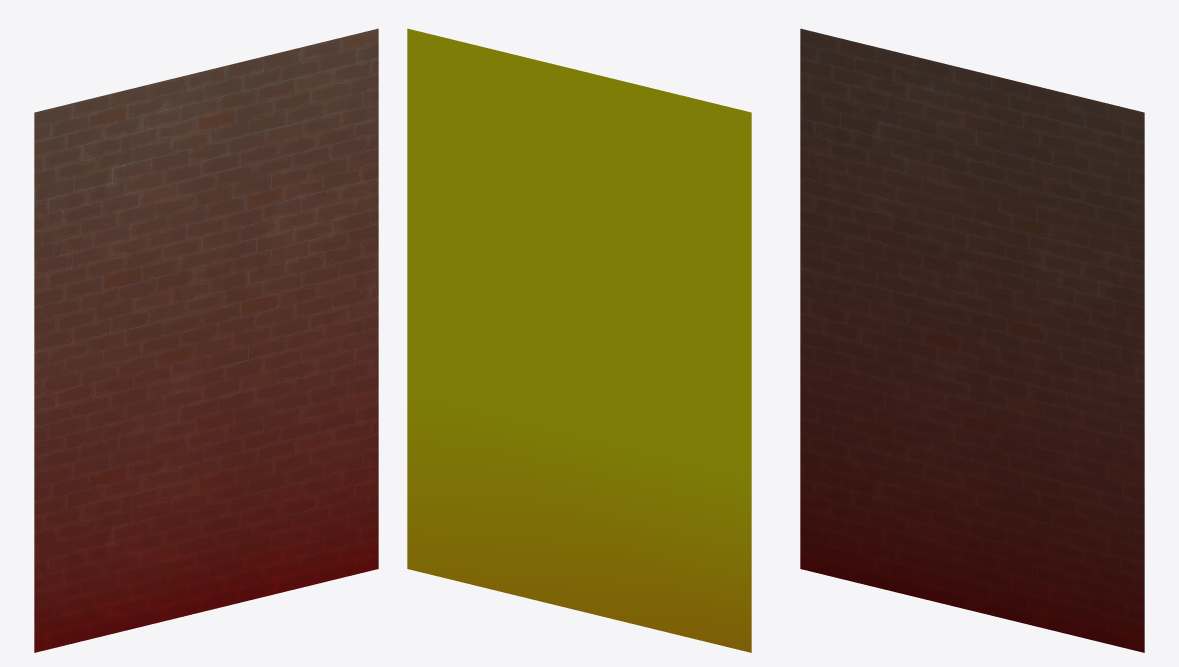
The model's file is brick-plain-3.glb.
3 renders of one model, left to right at view 1: azimuth 30°, elevation 25°; view 2: azimuth 150°, elevation 25°; view 3: azimuth 330°, elevation 25°, orthographic.
Parts seen in each view (by area): view 1: Brick_Plain_3; view 2: Brick_Plain_3; view 3: Brick_Plain_3.
Part boxes in pixels (x1,y1,x2,y2): Brick_Plain_3: (34, 28, 378, 652); Brick_Plain_3: (407, 28, 751, 652); Brick_Plain_3: (800, 28, 1144, 652).
Size of the model in its own units: 2 by 3 by 0.2.
Materials: 2 (1 with a texture image).
